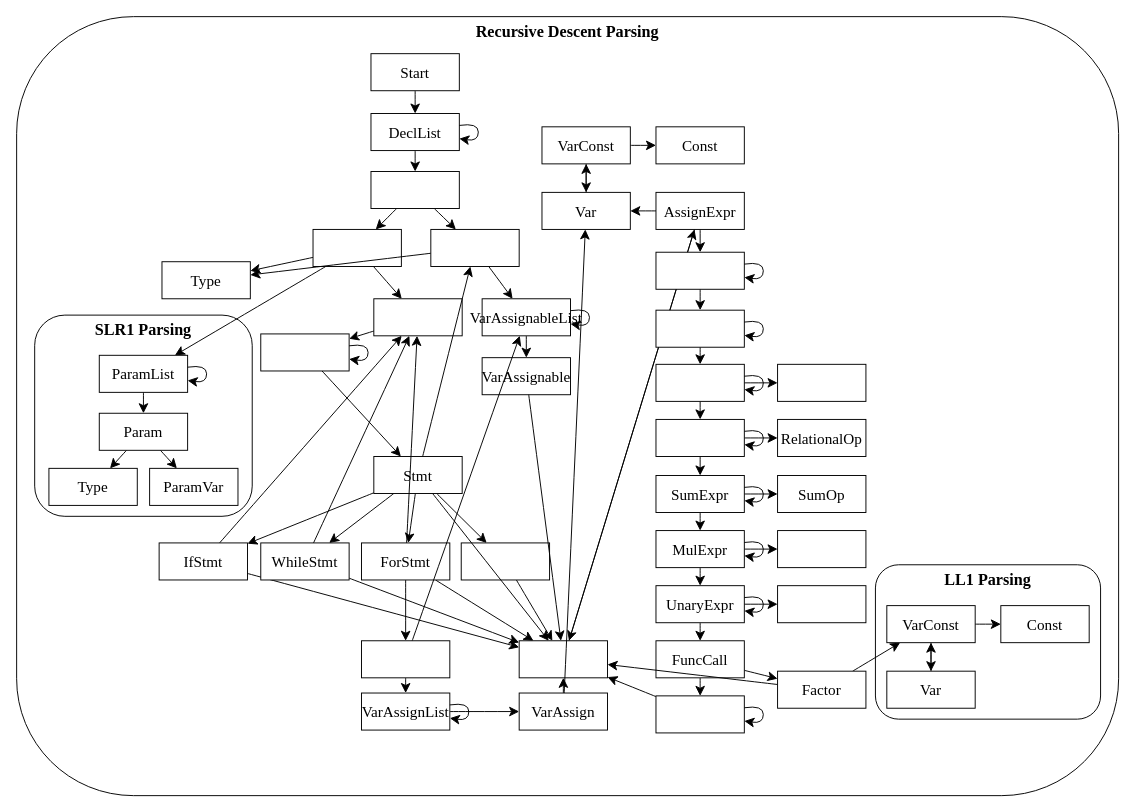
This 1135x812 diagram has some shape labels left out. The shapes that lost their labels are listed below. From the top down, each one's centre as x and y in pixels, then its label:
At (414,190): "Decl".
At (356,247): "FuncDef".
At (474,247): "VarDecl".
At (699,270): "OrExpr".
At (417,317): "BlockStmt".
At (699,328): "AndExpr".
At (304,352): "StmtList".
At (699,382): "EqualityExpr".
At (821,382): "EqualityOp".
At (699,437): "RelationalExpr".
At (505,561): "ReturnStmt".
At (821,549): "MulOp".
At (821,604): "UnaryOp".
At (405,659): "ForVarDecl".
At (563,659): "Expr".
At (699,714): "ArgList".
